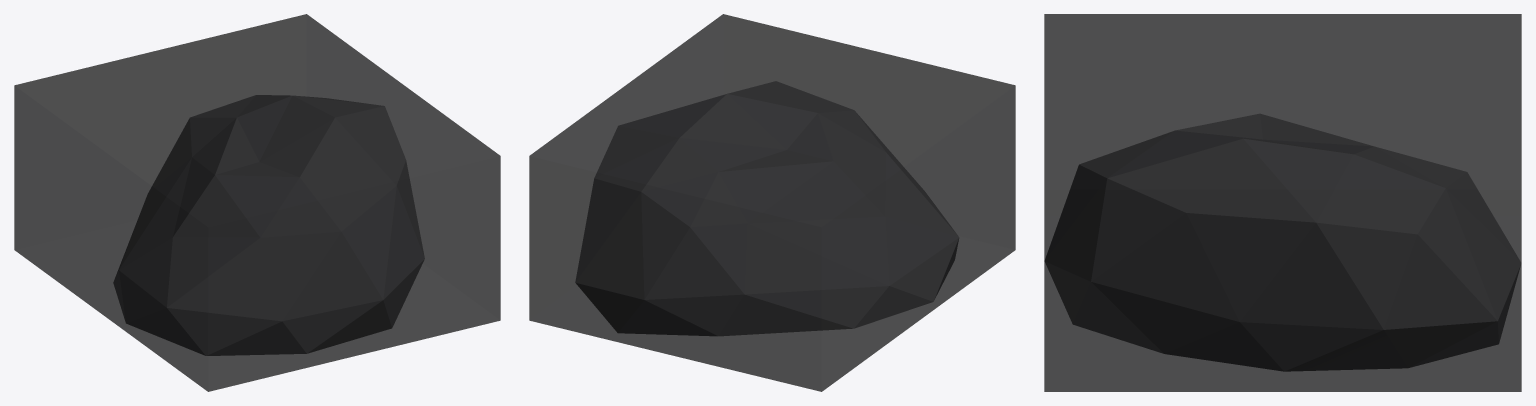
File: Stone_4.fbx
The picture shows the model from 3 angles, left to right: view 1: azimuth 30°, elevation 25°; view 2: azimuth 150°, elevation 25°; view 3: azimuth 270°, elevation 25°; orthographic projection. The views are drawn at different scales.
Parts seen in each view (by area): view 1: Stone_4_BBox, Stone_4; view 2: Stone_4_BBox, Stone_4; view 3: Stone_4_BBox, Stone_4.
Boxes of the visible parts, bbox=[...] form: Stone_4_BBox: bbox=[14, 14, 500, 391]; Stone_4: bbox=[113, 95, 424, 355]; Stone_4_BBox: bbox=[529, 14, 1015, 391]; Stone_4: bbox=[575, 81, 959, 336]; Stone_4_BBox: bbox=[1044, 14, 1521, 391]; Stone_4: bbox=[1044, 113, 1521, 371].
Size of the model in its own units: 1.05 by 0.5669 by 1.21.
2 materials, 1 textured.
